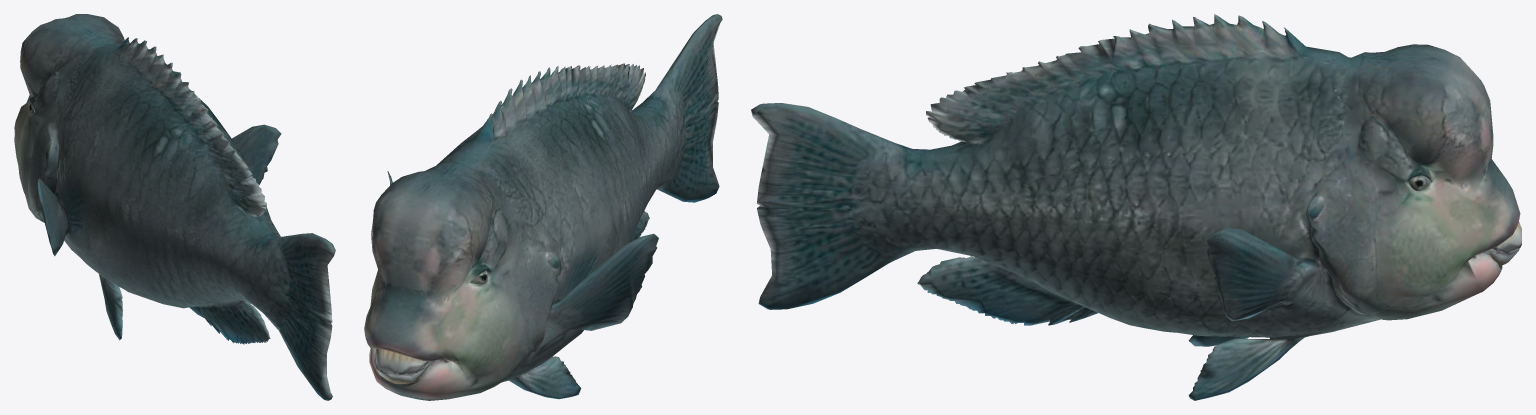
Rendered from bultkop.glb.
The picture shows the model from 3 angles, left to right: view 1: azimuth 30°, elevation 25°; view 2: azimuth 150°, elevation 25°; view 3: azimuth 270°, elevation 25°; orthographic projection. The views are drawn at different scales.
Visible parts, largest first — view 1: tripo_node_160341c2-f06e-4745-9848-e6cb47a06b00; view 2: tripo_node_160341c2-f06e-4745-9848-e6cb47a06b00; view 3: tripo_node_160341c2-f06e-4745-9848-e6cb47a06b00.
Part boxes in pixels (<box>): tripo_node_160341c2-f06e-4745-9848-e6cb47a06b00: <box>14,14,335,400</box>; tripo_node_160341c2-f06e-4745-9848-e6cb47a06b00: <box>364,14,722,400</box>; tripo_node_160341c2-f06e-4745-9848-e6cb47a06b00: <box>751,14,1521,400</box>.
Bounding box in the file's own units: 0.4582 × 0.5 × 0.9715.
1 material, 1 textured.
